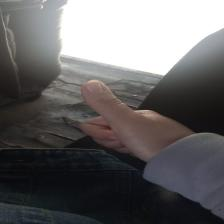five: (64, 76, 202, 156)
